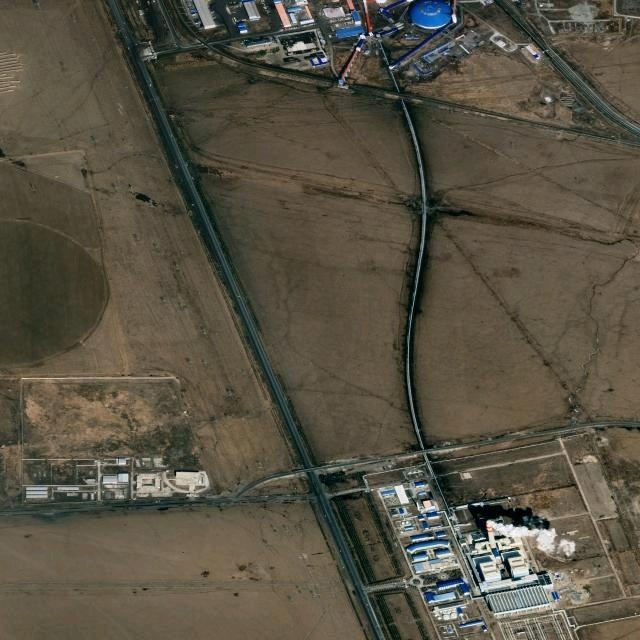coal_fired_power_plant: (465, 506, 555, 619)
